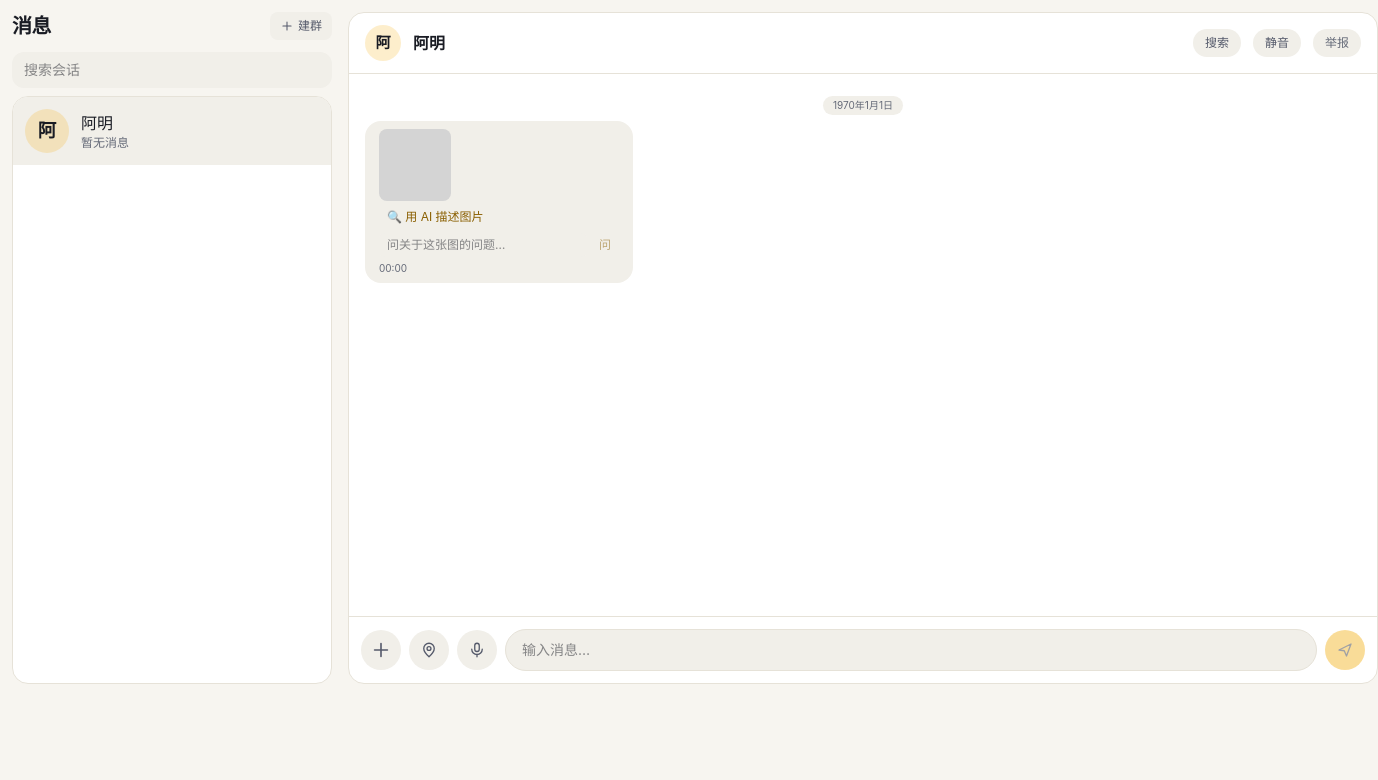
Test: ChatPage 线程消息气泡渲染（防字段漂移：按 kind 渲染内容） › 图片消息「问」→ 把具体问题作为 question 参数发给 visionDescribe（图像问答 VQA）并显示答案
Type "上面的电话号码是多少" into the field named "向 AI 提问关于这张图片" at (483, 245), box 379,233 -> 587,257
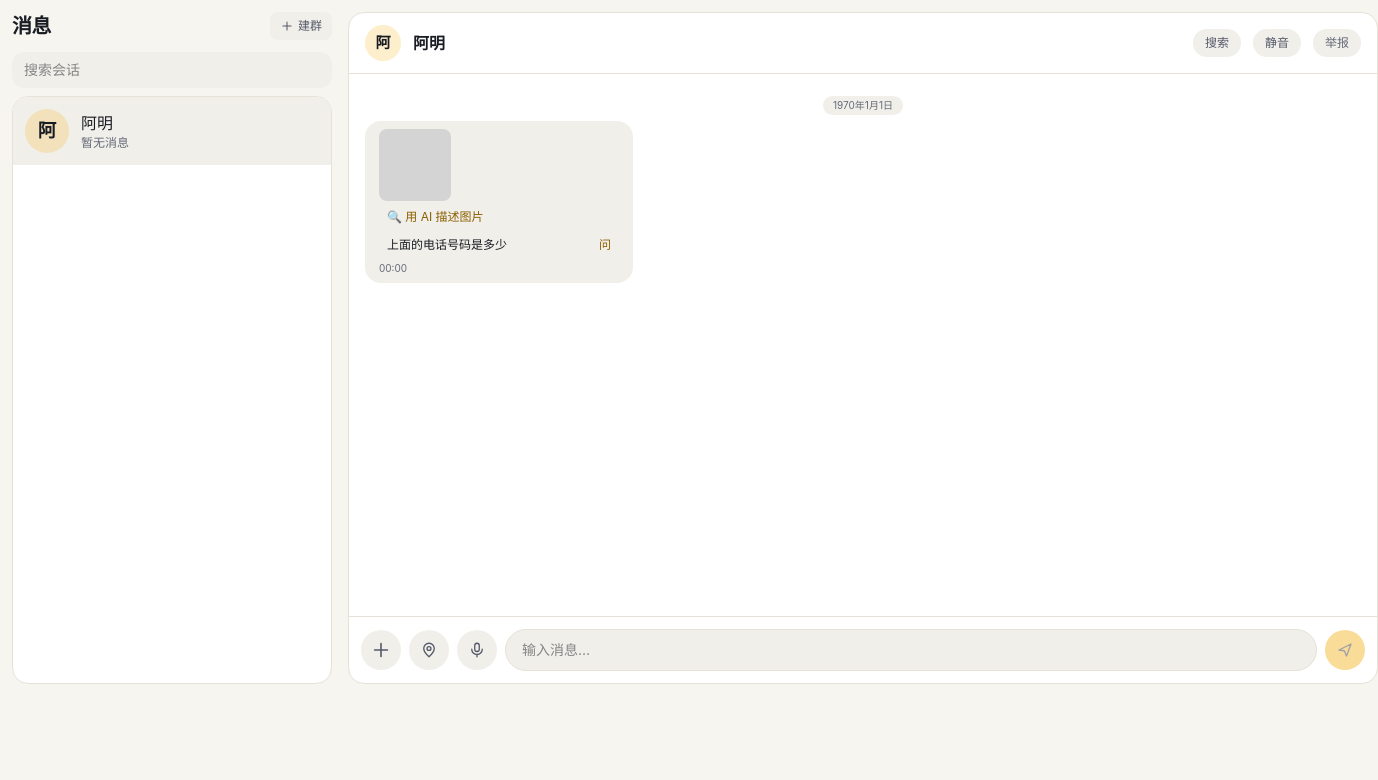
Click the button "问" at (605, 245), box 591,233 -> 619,257
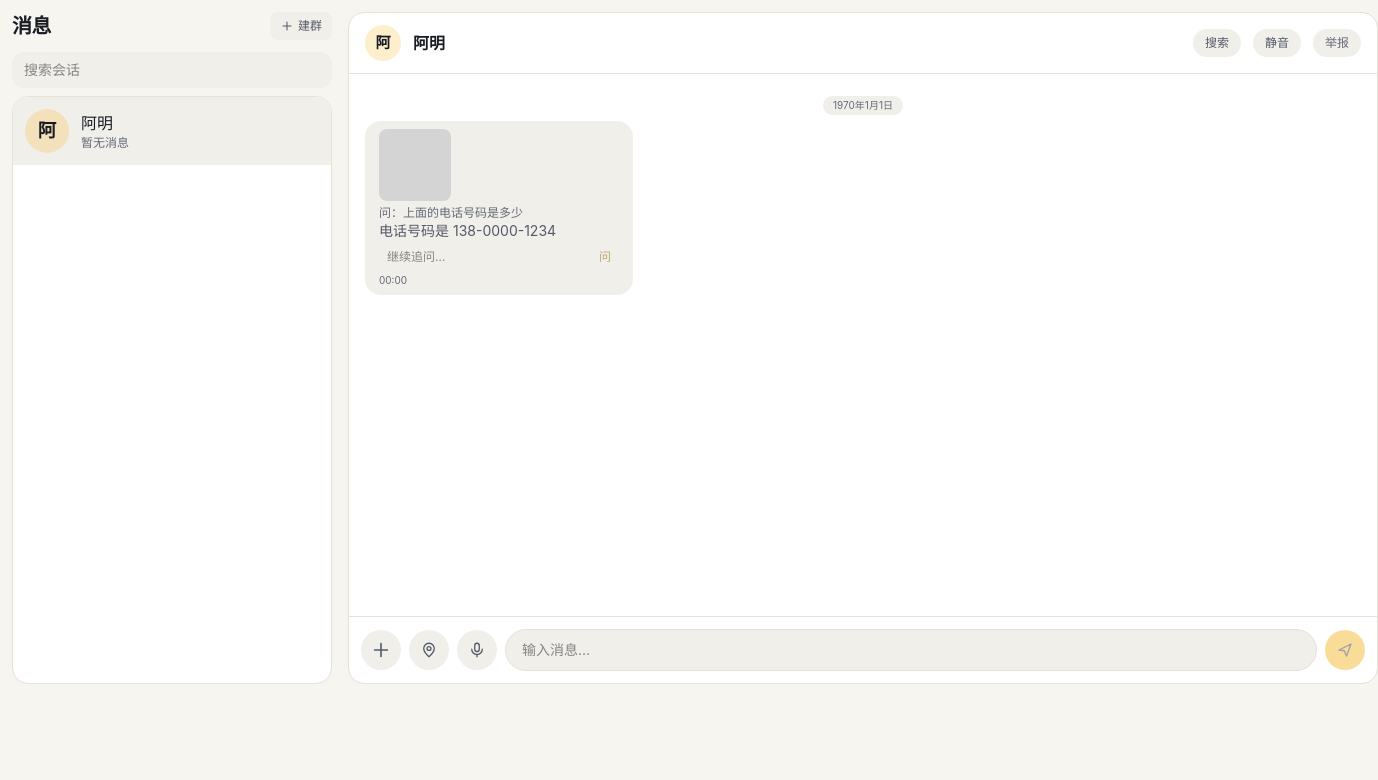
expect the text "电话号码是 138-0000-1234" is shown: met, box 379,222 -> 556,239
